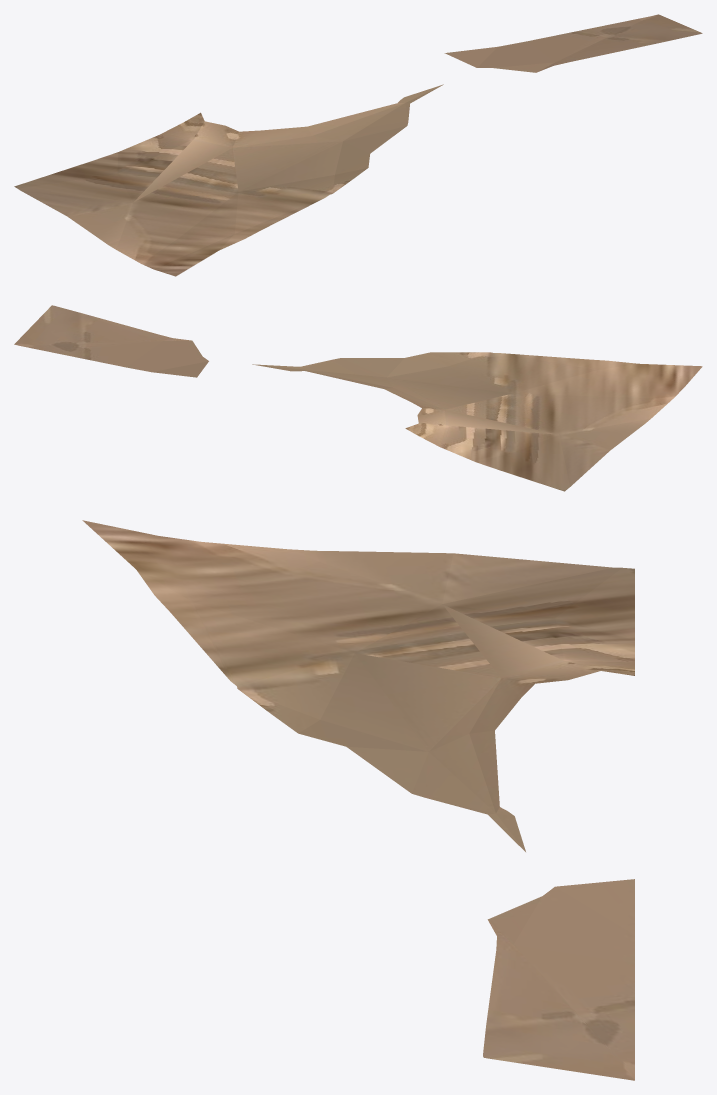
3 views of the same model, one above another, from view 1: azimuth 30°, elevation 25°; view 2: azimuth 150°, elevation 25°; view 3: azimuth 270°, elevation 25° (orthographic). The views are drawn at different scales.
Size of the model in its own units: 1.04 by 0.044 by 0.454.
1 material, 1 textured.
